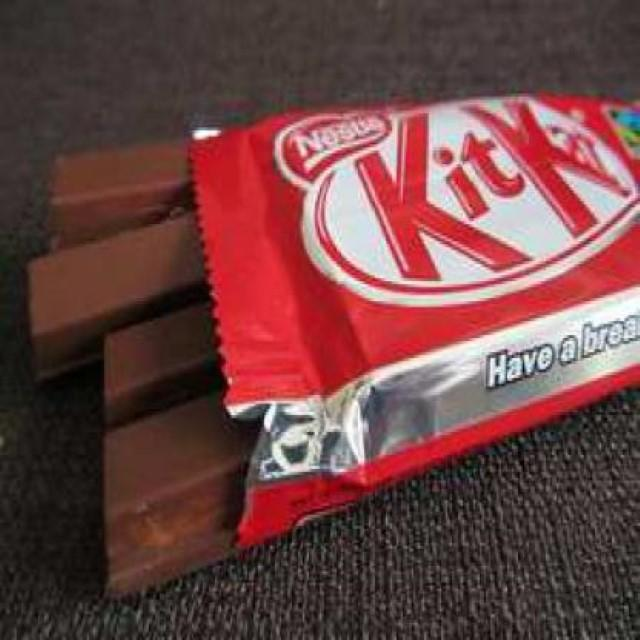kitkat_chocolate: (200, 116, 640, 442)
